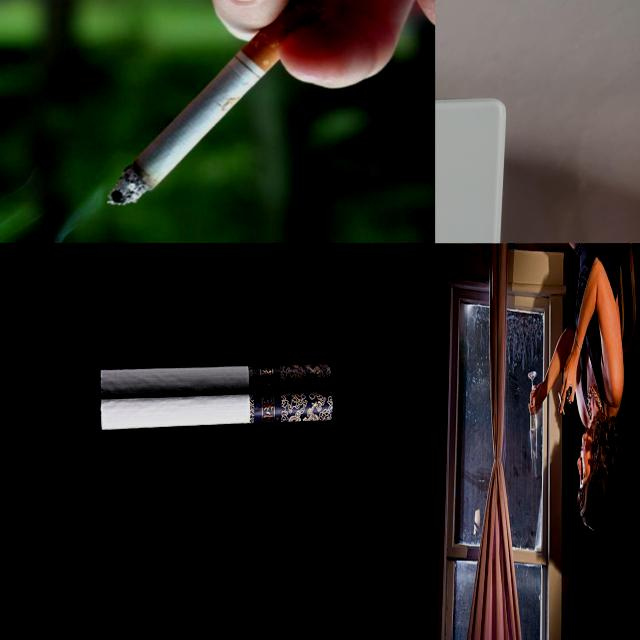cigarette: (107, 0, 339, 206), (99, 394, 334, 429), (100, 362, 332, 393), (558, 390, 566, 416)
